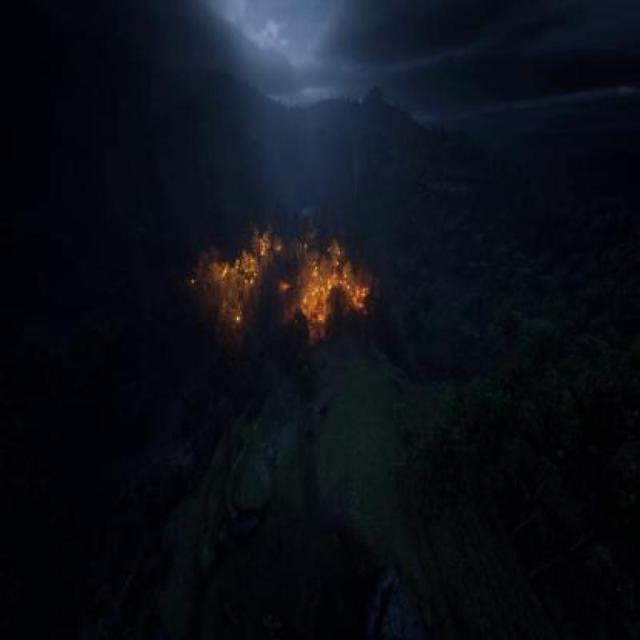Fire: (192, 226, 378, 354)
